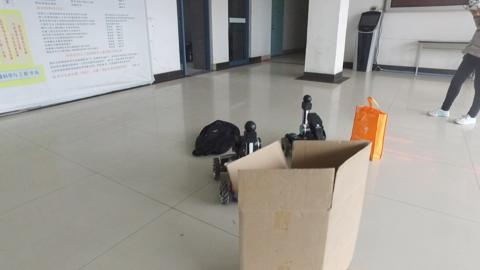bag: (356, 99, 387, 154)
chariot: (279, 93, 335, 143)
